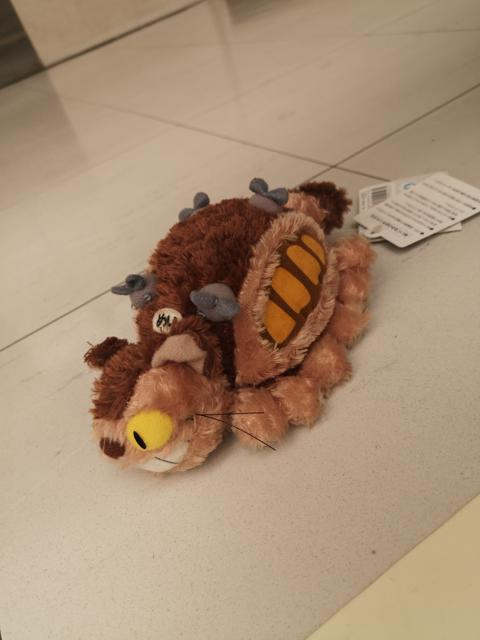nekobus: (79, 171, 384, 487)
